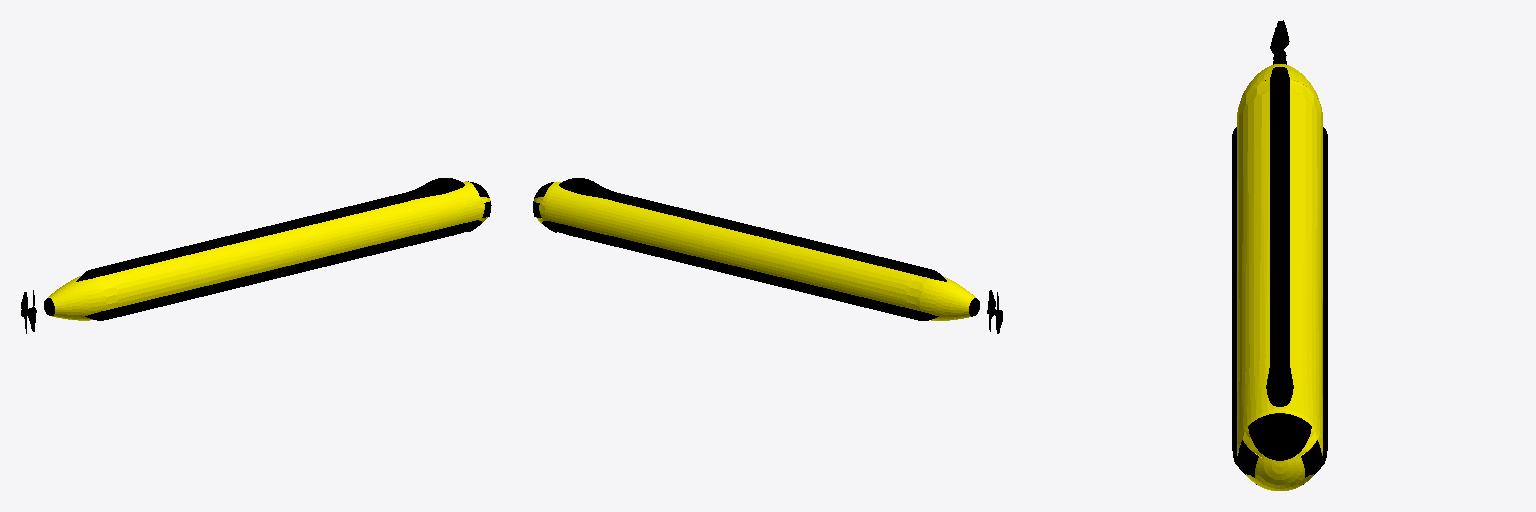
The robot description file, URDF, robot "sam_auv":
<?xml version="1.0" ?>
<!-- =================================================================================== -->
<!-- |    This document was autogenerated by xacro from to_urdf.xacro                  | -->
<!-- |    EDITING THIS FILE BY HAND IS NOT RECOMMENDED                                 | -->
<!-- =================================================================================== -->
<!-- This file is to call the macro defined in sam_auv.urdf.xacro
so that we can generate a concrete urdf file to be imported in Unity-->
<robot name="sam_auv">
  <!-- Links. -->
  <link name="base_link">
    <visual>
      <origin rpy="0 0 0" xyz="-0.677 0 0"/>
      <geometry>
        <mesh filename="mesh/SAM_HULL.dae" scale="1 1 1"/>
      </geometry>
    </visual>
	<inertial>
      <origin rpy="0.0 0.0 0.0" xyz="-0.0075 0 -0.015"/>
      <mass value="12.012"/>
      <inertia ixx="0.0293" ixy="0.0" ixz="0.0" iyy="1.6202" iyz="0.0" izz="1.6202"/>
    </inertial>
  </link>
  <link name="thruster_link">
    <visual>
      <origin rpy="0 0 0" xyz="0 0 0"/>
      <geometry>
        <mesh filename="mesh/SAM_NOZZLE.dae" scale="1 1 1"/>
      </geometry>
    </visual>
	<inertial>
      <origin rpy="0.0 0.0 0.0" xyz="0.0 0.0 0.0"/>
      <mass value="0.00000001"/>
      <inertia ixx="0.00000001" ixy="0.0" ixz="0.0" iyy="0.00000001" iyz="0.0" izz="0.00000001"/>
    </inertial>
  </link>
  <link name="front_prop_link">
    <visual>
      <origin rpy="0 0 0" xyz="0 0 0"/>
      <geometry>
        <mesh filename="mesh/SAM_FRONTPROP.dae" scale="1 1 1"/>
      </geometry>
    </visual>
	<inertial>
      <origin rpy="0.0 0.0 0.0" xyz="0.0 0.0 0.0"/>
      <mass value="0.00000001"/>
      <inertia ixx="0.00000001" ixy="0.0" ixz="0.0" iyy="0.00000001" iyz="0.0" izz="0.00000001"/>
    </inertial>
  </link>
  <link name="back_prop_link">
    <visual>
      <origin rpy="0 0 0" xyz="0 0 0"/>
      <geometry>
        <mesh filename="mesh/SAM_BACKPROP.dae" scale="1 1 1"/>
      </geometry>
    </visual>
	<inertial>
      <origin rpy="0.0 0.0 0.0" xyz="0.0 0.0 0.0"/>
       <mass value="0.00000001"/>
	  <inertia ixx="0.00000001" ixy="0.0" ixz="0.0" iyy="0.00000001" iyz="0.0" izz="0.00000001"/>	  
    </inertial>
  </link>
  <link name="thruster_yaw_link">
	<inertial>
      <origin rpy="0.0 0.0 0.0" xyz="0.0 0.0 0.0"/>
       <mass value="0.00000001"/>
	  <inertia ixx="0.00000001" ixy="0.0" ixz="0.0" iyy="0.00000001" iyz="0.0" izz="0.00000001"/>	  
    </inertial>
  </link>
  <link name="battery_link">
	<inertial>
      <origin rpy="0.0 0.0 0.0" xyz="0.12115 0.0 0.0"/>
        <mass value="2.7"/>
      <inertia ixx="1" ixy="0.0" ixz="0.0" iyy="1" iyz="0.0" izz="1"/>
    </inertial>
  </link>
  <link name="tcg1_link">
	<inertial>
      <origin rpy="0.0 0.0 0.0" xyz="0.0 0.0 0.0"/>
      <mass value="0.00000001"/>
	  <inertia ixx="0.00000001" ixy="0.0" ixz="0.0" iyy="0.00000001" iyz="0.0" izz="0.00000001"/>	  
    </inertial>
  </link>
  <link name="tcg2_link">
	<inertial>
      <origin rpy="0.0 0.0 0.0" xyz="0.0 0.0 0.0"/>
      <mass value="0.00000001"/>
	  <inertia ixx="0.00000001" ixy="0.0" ixz="0.0" iyy="0.00000001" iyz="0.0" izz="0.00000001"/>	  
    </inertial>
  </link>
  <link name="pressure_link">
	<inertial>
      <origin rpy="0.0 0.0 0.0" xyz="0.0 0.0 0.0"/>
      <mass value="0.00000001"/>
	  <inertia ixx="0.00000001" ixy="0.0" ixz="0.0" iyy="0.00000001" iyz="0.0" izz="0.00000001"/>	  
    </inertial>
  </link>
  <link name="dvl_link">
	<inertial>
      <origin rpy="0.0 0.0 0.0" xyz="0.0 0.0 0.0"/>
      <mass value="0.00000001"/>
	  <inertia ixx="0.00000001" ixy="0.0" ixz="0.0" iyy="0.00000001" iyz="0.0" izz="0.00000001"/>	  
    </inertial>
  </link>
  <link name="sidescan_link">
	<inertial>
      <origin rpy="0.0 0.0 0.0" xyz="0.0 0.0 0.0"/>
      <mass value="0.00000001"/>
	  <inertia ixx="0.00000001" ixy="0.0" ixz="0.0" iyy="0.00000001" iyz="0.0" izz="0.00000001"/>	  
    </inertial>
  </link>
  <link name="imu_link">
	<inertial>
      <origin rpy="0.0 0.0 0.0" xyz="0.0 0.0 0.0"/>
      <mass value="0.00000001"/>
	  <inertia ixx="0.00000001" ixy="0.0" ixz="0.0" iyy="0.00000001" iyz="0.0" izz="0.00000001"/>	  
    </inertial>
  </link>
  <link name="vbs_link">
	<inertial>
      <origin rpy="0.0 0.0 0.0" xyz="0.0 0.0 0.0"/>
      <mass value="0.24925"/>
	  <inertia ixx="0.0293" ixy="0.0" ixz="0.0" iyy="1.6202" iyz="0.0" izz="1.6202"/>
    </inertial>
  </link>
  <link name="sbg_link">
	<inertial>
      <origin rpy="0.0 0.0 0.0" xyz="0.0 0.0 0.0"/>
      <mass value="0.00000001"/>
	  <inertia ixx="0.00000001" ixy="0.0" ixz="0.0" iyy="0.00000001" iyz="0.0" izz="0.00000001"/>	  
    </inertial>
  </link>
  <link name="gps_link">
	<inertial>
      <origin rpy="0.0 0.0 0.0" xyz="0.0 0.0 0.0"/>
      <mass value="0.00000001"/>
	  <inertia ixx="0.00000001" ixy="0.0" ixz="0.0" iyy="0.00000001" iyz="0.0" izz="0.00000001"/>	  
    </inertial>
  </link>
  <link name="uw_gps_link">
	<inertial>
      <origin rpy="0.0 0.0 0.0" xyz="0.0 0.0 0.0"/>
      <mass value="0.00000001"/>
	  <inertia ixx="0.00000001" ixy="0.0" ixz="0.0" iyy="0.00000001" iyz="0.0" izz="0.00000001"/>	  
    </inertial>
  </link>
  <link name="camera_down_link">
	<inertial>
      <origin rpy="0.0 0.0 0.0" xyz="0.0 0.0 0.0"/>
      <mass value="0.00000001"/>
	  <inertia ixx="0.00000001" ixy="0.0" ixz="0.0" iyy="0.00000001" iyz="0.0" izz="0.00000001"/>	  
    </inertial>
  </link>
  <link name="camera_front_right_link">
	<inertial>
      <origin rpy="0.0 0.0 0.0" xyz="0.0 0.0 0.0"/>
      <mass value="0.00000001"/>
	  <inertia ixx="0.00000001" ixy="0.0" ixz="0.0" iyy="0.00000001" iyz="0.0" izz="0.00000001"/>	  
    </inertial>
  </link>
  <link name="camera_front_left_link">
	<inertial>
      <origin rpy="0.0 0.0 0.0" xyz="0.0 0.0 0.0"/>
      <mass value="0.00000001"/>
	  <inertia ixx="0.00000001" ixy="0.0" ixz="0.0" iyy="0.00000001" iyz="0.0" izz="0.00000001"/>	  
    </inertial>
  </link>
  <link name="camera_front_link">
	<inertial>
      <origin rpy="0.0 0.0 0.0" xyz="0.0 0.0 0.0"/>
      <mass value="0.00000001"/>
	  <inertia ixx="0.00000001" ixy="0.0" ixz="0.0" iyy="0.00000001" iyz="0.0" izz="0.00000001"/>	  
    </inertial>
  </link>
  <link name="rope_link">
  <inertial>
      <origin rpy="0.0 0.0 0.0" xyz="0.0 0.0 0.0"/>
      <mass value="0.00000001"/>
	  <inertia ixx="0.00000001" ixy="0.0" ixz="0.0" iyy="0.00000001" iyz="0.0" izz="0.00000001"/>	  
    </inertial>
  </link>
  
  <joint name="thruster_yaw_joint" type="revolute">
    <parent link="base_link"/>
    <child link="thruster_yaw_link"/>
    <origin rpy="0.0 0.0 0.0" xyz="-0.677 0.0 0.0"/>
    <axis xyz="0 0 1"/>
    <limit effort="100.0"  damping="500" lower="-0.2" upper="0.2" velocity="0.2"/>
  </joint>
  <joint name="thruster_pitch_joint" type="revolute">
    <parent link="thruster_yaw_link"/>
    <child link="thruster_link"/>
    <origin rpy="0.0 0.0 0.0" xyz="0.0 0.0 0.0"/>
    <axis xyz="0 1 0"/>
    <limit effort="100.0" damping="500" lower="-0.2" upper="0.2" velocity="0.2"/>
  </joint>
  <joint name="front_prop_joint" type="continuous">
    <parent link="thruster_link"/>
    <child link="front_prop_link"/>
    <origin rpy="0.0 0.0 0.0" xyz="-0.05429989 0 0"/>
    <axis xyz="1 0 0"/>
  </joint>
  <joint name="back_prop_joint" type="continuous">
    <parent link="thruster_link"/>
    <child link="back_prop_link"/>
    <origin rpy="0.0 0.0 0.0" xyz="-0.07700002 0 0"/>
    <axis xyz="1 0 0"/>
  </joint>
  <joint name="pressure_joint" type="fixed">
    <parent link="base_link"/>
    <child link="pressure_link"/>
    <origin rpy="0.0 0.0 0.0" xyz="-0.503 0.025 0.057"/>
  </joint>
  <joint name="dvl_joint" type="fixed">
    <parent link="base_link"/>
    <child link="dvl_link"/>
    <origin rpy="0.0 0.0 0.0" xyz="0.573 0.0 -0.063"/>
  </joint>
  <!--Sidescan acoustic center, i.e. intersection between both sidescan centers.-->
  <joint name="sidescan_joint" type="fixed">
    <parent link="base_link"/>
    <child link="sidescan_link"/>
    <origin rpy="0.0 0.0 0.0" xyz="-0.043 0.0 0.0"/>
  </joint>
  <joint name="imu_joint" type="fixed">
    <parent link="base_link"/>
    <child link="imu_link"/>
    <origin rpy="0.0 0.0 0.0" xyz="0.24 0.0 -0.036"/>
  </joint>
  <joint name="sbg_joint" type="fixed">
    <parent link="base_link"/>
    <child link="sbg_link"/>
    <origin rpy="0.0 0.0 0.0" xyz="0.46 0.0 0.002"/>
  </joint>
  <joint name="gps_joint" type="fixed">
    <parent link="base_link"/>
    <child link="gps_link"/>
    <origin rpy="0.0 0.0 0.0" xyz="0.528 0.0 0.071"/>
  </joint>
  <joint name="uw_gps_joint" type="fixed">
    <parent link="base_link"/>
    <child link="uw_gps_link"/>
    <origin rpy="0.0 0.0 0.0" xyz="-0.402 0.0 0.078"/>
  </joint>
  <!-- Waterlink Nosecone Camera Positions -->
  <joint name="camera_front_joint" type="fixed">
    <parent link="base_link"/>
    <child link="camera_front_link"/>
    <origin rpy="-1.5707 0.0 -1.5707" xyz="0.647 0.0 0.0"/>
  </joint>
  <joint name="camera_down_joint" type="fixed">
    <parent link="base_link"/>
    <child link="camera_down_link"/>
    <origin rpy="3.1416 0.0 -1.5707" xyz="0.5905 0.0 -0.058"/>
  </joint>
  <joint name="camera_front_left_joint" type="fixed">
    <parent link="base_link"/>
    <child link="camera_front_left_link"/>
    <!--origin rpy="1.3 3.1416 2.3416" xyz="0.636 0.050 -0.007"/-->
    <origin rpy="1.3 3.1416 2.3416" xyz="0.636 0.050 -0.007"/>
  </joint>
  <joint name="camera_front_right_joint" type="fixed">
    <parent link="base_link"/>
    <child link="camera_front_right_link"/>
    <origin rpy="1.3 3.1416 0.8" xyz="0.636 -0.050 -0.007"/>
  </joint>
  <joint name="lcg_joint" type="prismatic">
    <parent link="base_link"/>
    <child link="battery_link"/>
    <origin rpy="0.0 0.0 0.0" xyz="-0.08 0.0 0.0"/>
    <axis xyz="-1 0 0"/>
    <limit effort="1.0" lower="0" upper="0.057" velocity="0.2"/>
  </joint>
    <joint name="vbs_joint" type="prismatic">
    <parent link="base_link"/>
    <child link="vbs_link"/>
    <origin rpy="0.0 0.0 0.0" xyz="-0.273 0 -0.0125"/>
    <axis xyz="1 0 0"/>
    <limit effort="1.0" lower="0.006" upper="0.05" velocity="0.2"/>
  </joint>
  <joint name="tcg_joint1" type="revolute">
    <parent link="base_link"/>
    <child link="tcg1_link"/>
    <origin rpy="0.0 0.0 0.0" xyz="-0.095 0.0 0.0"/>
    <axis xyz="1 0 0"/>
    <!--limit effort="1.0" lower="-1.6" upper="1.6" velocity="0.2"/-->
  </joint>
  <joint name="tcg_joint2" type="revolute">
    <parent link="base_link"/>
    <child link="tcg2_link"/>
    <origin rpy="0.0 0.0 0.0" xyz="-0.125 0.0 0.0"/>
    <axis xyz="1 0 0"/>
    <!--limit effort="1.0" lower="-1.6" upper="1.6" velocity="0.2"/-->
  </joint>
   <joint name="rope_joint" type="fixed">
    <parent link="base_link"/>
    <child link="rope_link"/>
    <origin rpy="0.0 0.0 0.0" xyz="0.540 0.0 0.071"/>
  </joint>
</robot>

--- Facts derived from the render (not from the file) ---
3 views of the same robot in one strip: view 1: azimuth 30°, elevation 25°; view 2: azimuth 150°, elevation 25°; view 3: azimuth 270°, elevation 25° (orthographic).
Robot: sam_auv — 21 links, 20 joints (4 revolute, 2 continuous, 2 prismatic, 12 fixed); root link base_link; default pose: joints at zero except 1 at the middle of their limits (vbs_joint = 0.028).
Visible links, largest first — view 1: base_link; view 2: base_link; view 3: base_link.
Link boxes in pixels (box(x1,y1,x2,y2)): base_link: box(44, 178, 491, 320); base_link: box(533, 178, 979, 320); base_link: box(1232, 64, 1327, 490).
Bounding box of the posed robot: 1.42 × 0.1403 × 0.1583 m (x, y, z).
3 mesh visuals loaded from 4 distinct referenced files (3 Collada DAE); not drawn: 1 (reference not matched to a file when rendering).
